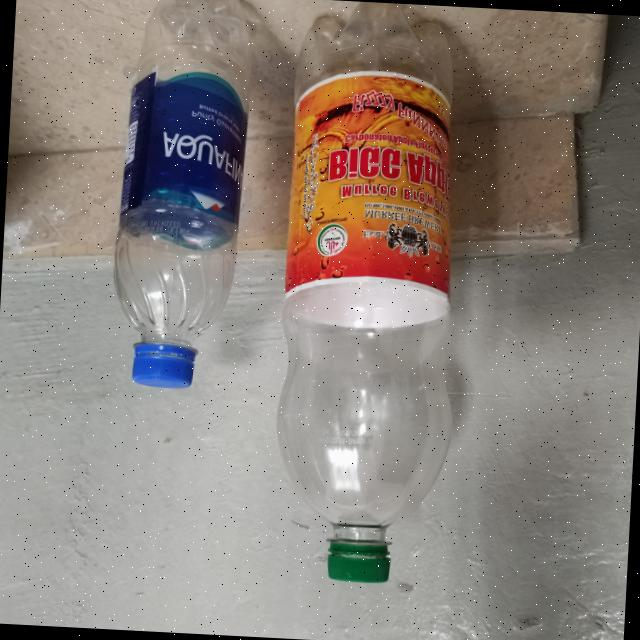bottle: (296, 0, 504, 587), (110, 0, 266, 390)
cap: (324, 532, 396, 586), (129, 336, 198, 389)
label: (323, 81, 485, 322), (124, 52, 254, 227)
